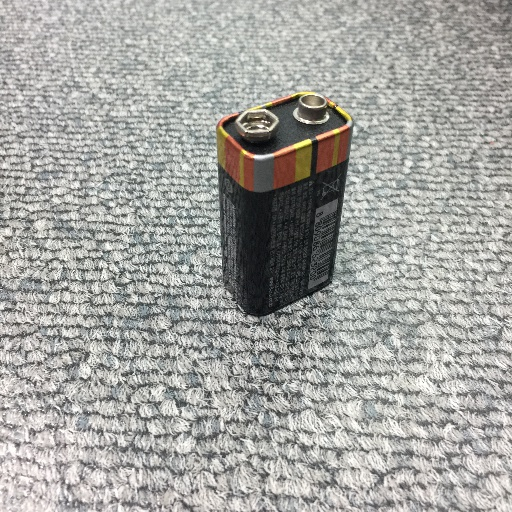Battery_3: (209, 84, 366, 322)
